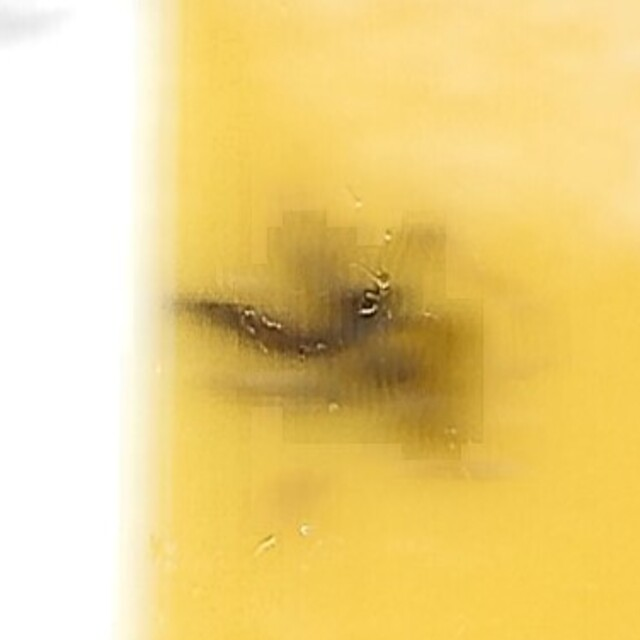Nematocera: (170, 204, 470, 436)
